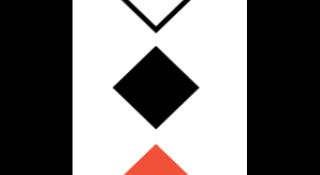Square: (111, 44, 203, 131), (121, 0, 192, 35), (122, 143, 190, 175)
